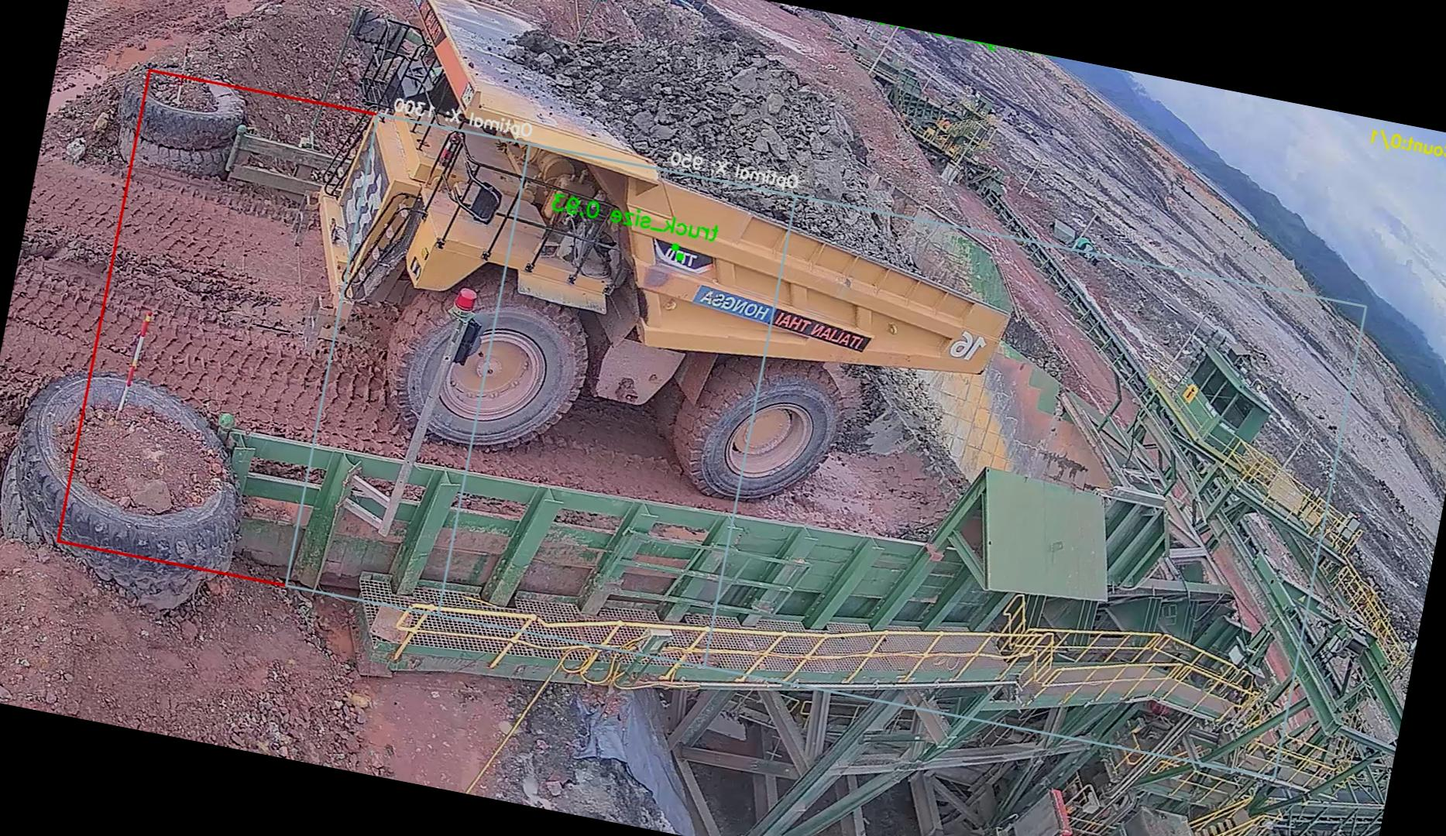company: (668, 276, 884, 365)
full_load: (533, 0, 916, 250)
mining_truck: (239, 0, 1060, 547)
tail_number: (931, 317, 997, 379)
truck_size: (647, 232, 723, 279)
